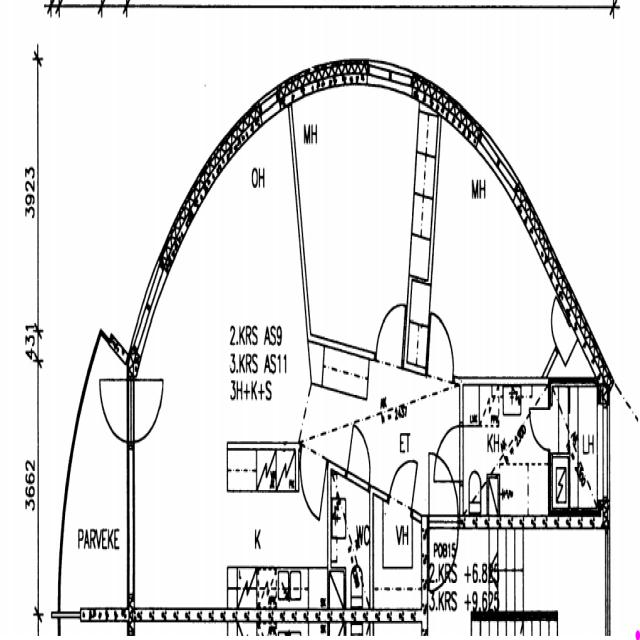door: (128, 370, 165, 444), (373, 296, 406, 366), (427, 309, 457, 381), (346, 418, 373, 488), (434, 422, 464, 484), (388, 456, 418, 509), (527, 401, 554, 455)
window: (253, 83, 284, 126)
zone: (296, 88, 420, 353), (461, 379, 549, 522), (552, 382, 609, 514), (373, 496, 424, 620), (330, 476, 371, 622), (429, 524, 490, 618)
